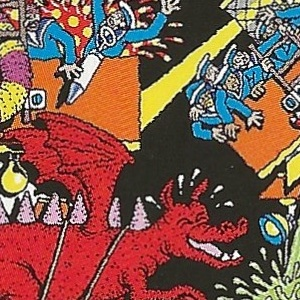Odlaw: (135, 122, 165, 178)
